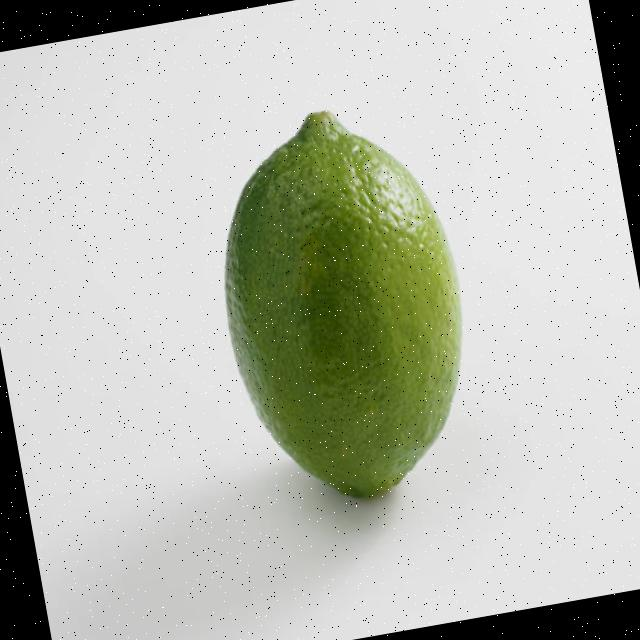Unripe: (192, 86, 492, 519)
